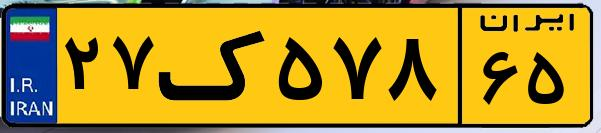2: (57, 26, 110, 100)
5: (270, 28, 330, 110), (525, 38, 570, 115)
6: (475, 38, 525, 113)
7: (330, 28, 385, 110), (110, 28, 158, 98)
8: (385, 28, 445, 110)
ک: (158, 12, 270, 120)
